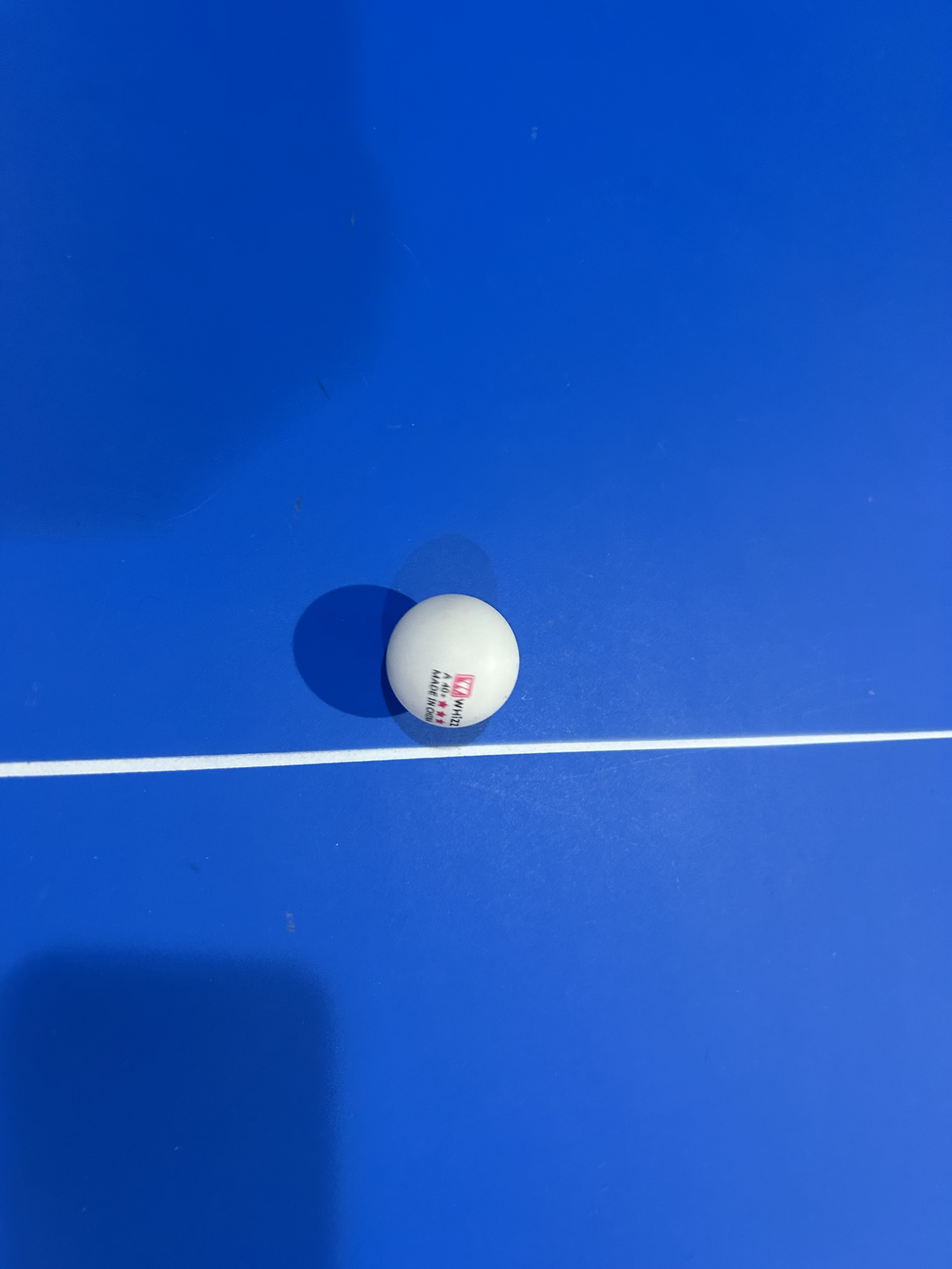Ball: (377, 584, 537, 725)
